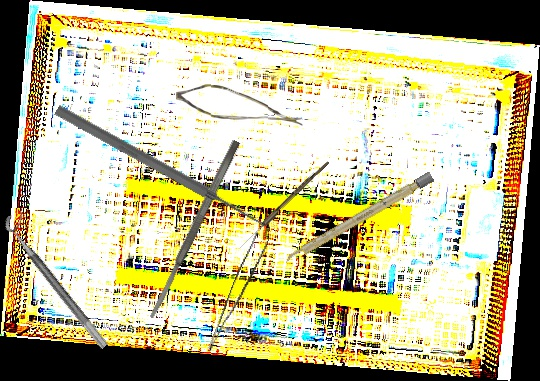Fixation Ring: (0, 207, 120, 351)
Micro Scissor: (175, 83, 304, 127)
Pusher: (52, 103, 267, 231)
Scalpel Handle: (282, 171, 435, 266)
Spatula Surgical: (146, 139, 242, 320)
Surgical Spoon: (237, 158, 330, 252)
Tissue Forceps: (207, 230, 271, 356)
